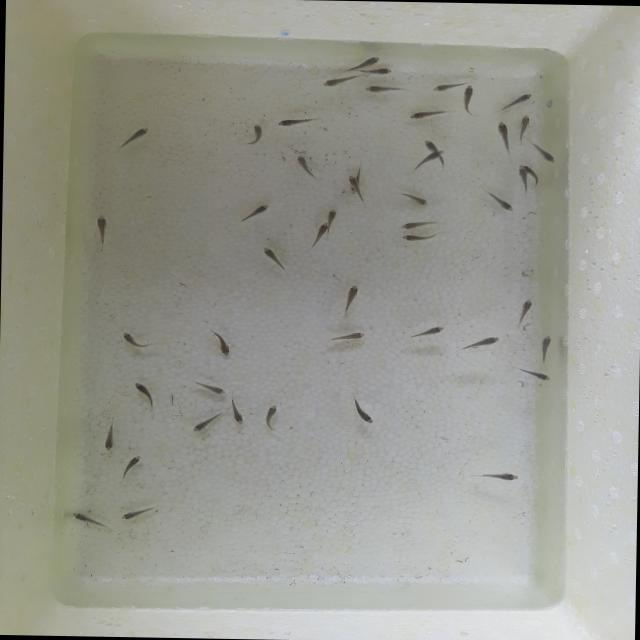fingerling: (90, 211, 116, 253), (478, 185, 516, 213), (131, 378, 160, 412), (260, 245, 292, 275), (114, 502, 162, 522), (387, 188, 434, 208), (459, 332, 503, 353), (234, 202, 272, 225), (118, 124, 152, 148), (530, 333, 558, 361), (507, 365, 553, 382), (119, 452, 144, 483), (190, 377, 228, 397), (207, 329, 232, 358), (474, 469, 522, 484), (274, 114, 325, 128), (186, 414, 218, 436), (344, 172, 366, 204), (339, 283, 362, 312), (512, 114, 534, 144), (120, 331, 152, 351), (502, 91, 534, 111), (226, 395, 246, 427), (416, 148, 448, 168), (459, 82, 477, 117), (100, 418, 118, 452), (426, 78, 460, 96), (400, 230, 438, 246), (292, 152, 318, 175), (398, 217, 444, 230), (514, 296, 534, 325), (404, 109, 452, 121), (262, 402, 280, 432), (360, 82, 405, 94), (70, 511, 106, 526), (320, 74, 356, 89), (353, 403, 376, 426), (532, 142, 556, 164), (346, 64, 390, 76), (329, 328, 366, 342), (514, 163, 530, 193), (308, 223, 328, 247), (348, 56, 387, 68), (412, 324, 446, 337), (494, 119, 510, 143), (250, 122, 266, 144), (323, 203, 338, 224), (419, 138, 436, 148)
